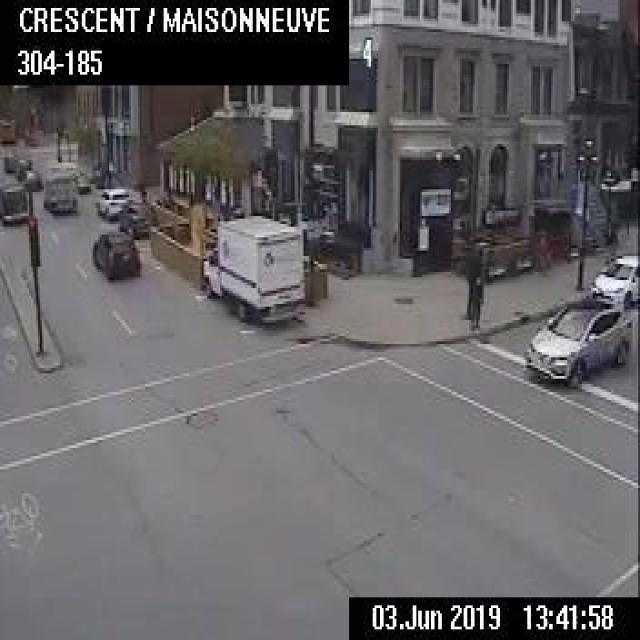pedestrian: (469, 273, 482, 330)
vehicle: (201, 212, 304, 323), (525, 296, 631, 387), (590, 251, 638, 307), (91, 230, 139, 280), (116, 200, 156, 236), (0, 174, 27, 225), (42, 170, 76, 210), (94, 186, 132, 218), (20, 169, 40, 188), (15, 156, 30, 176), (76, 172, 88, 191)
